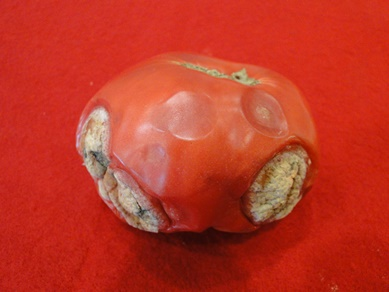anthracnose: (80, 96, 179, 245), (236, 128, 316, 225)
